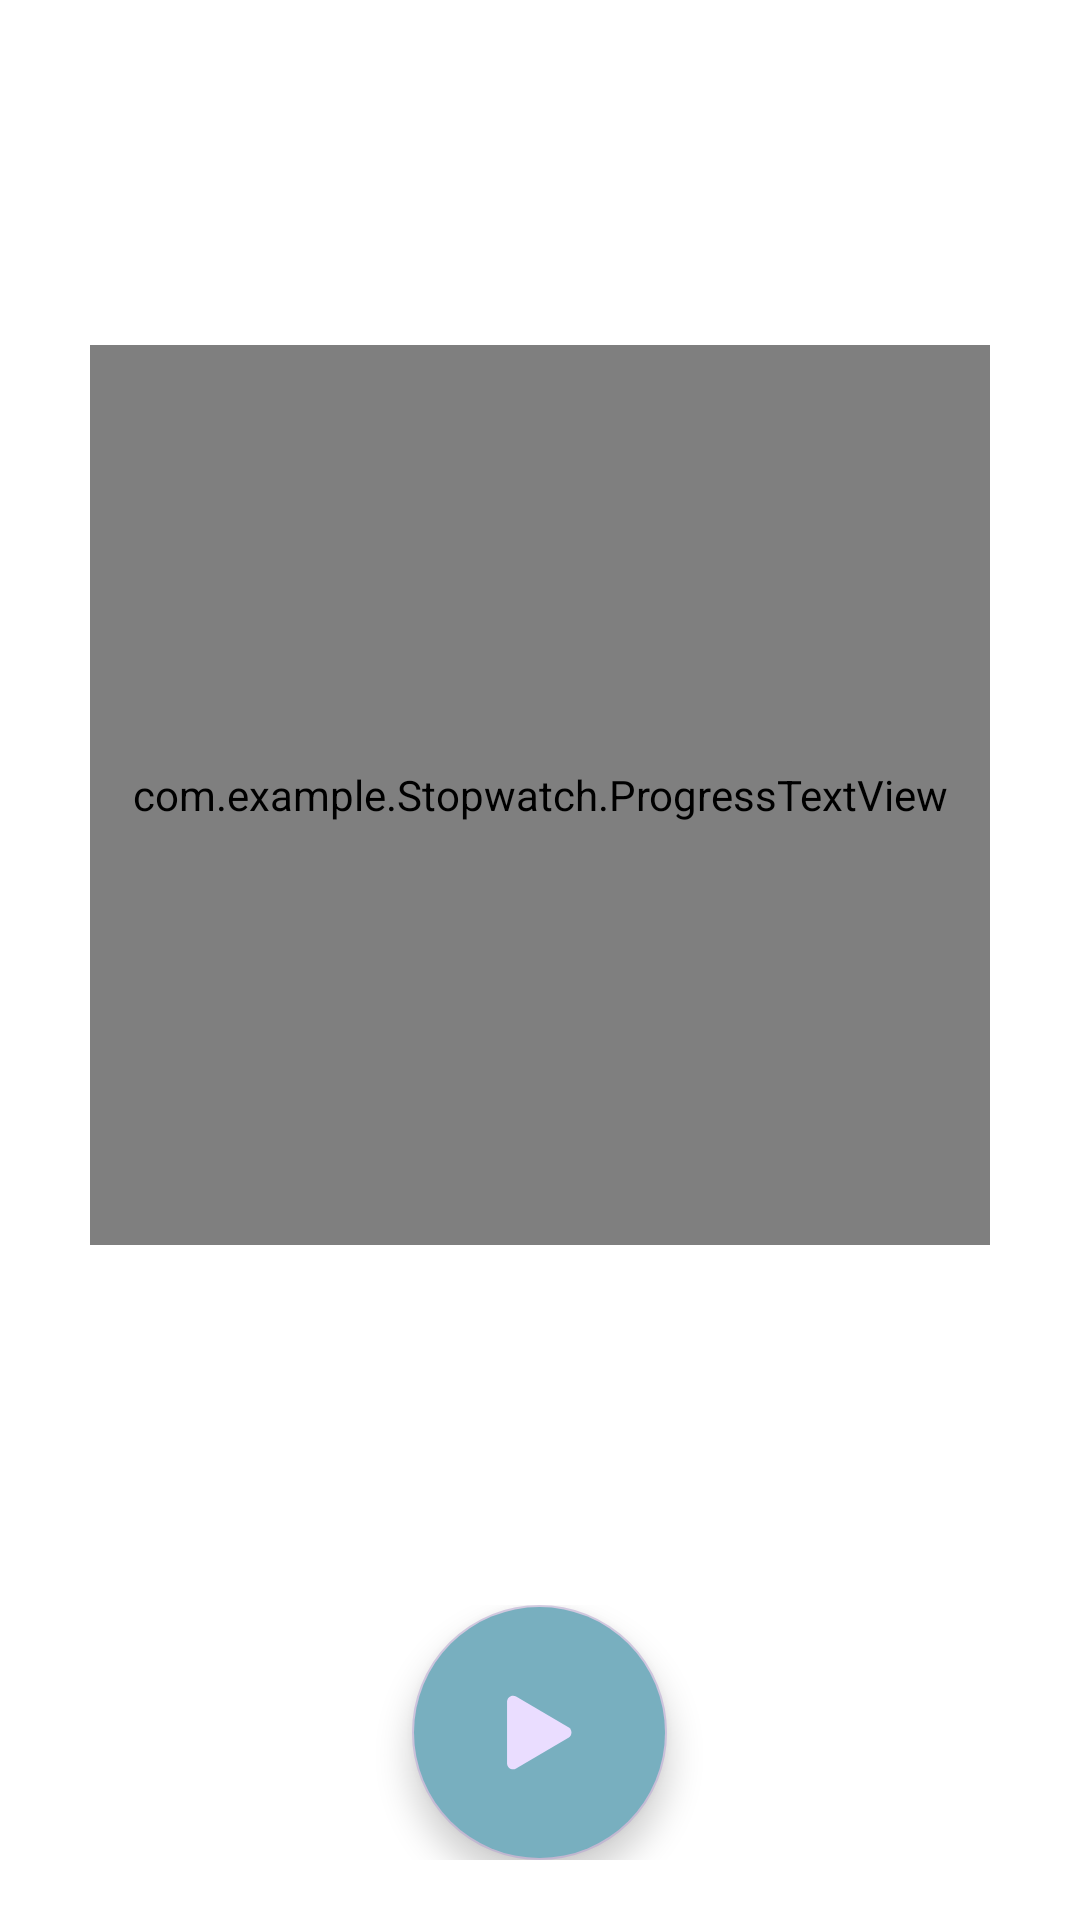

Named icons in this screenshot (1080w x 1920h) and their bounding boxes, (x1, y1, x2, y2):
play: (412, 1605, 667, 1860)
